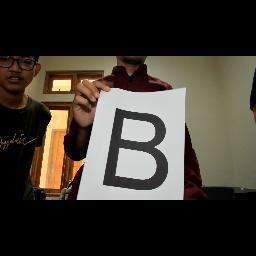b: (100, 104, 172, 192)
